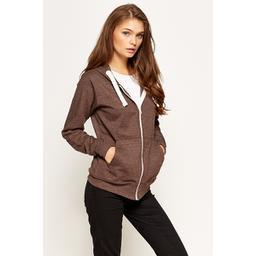sweater: (62, 63, 166, 201)
